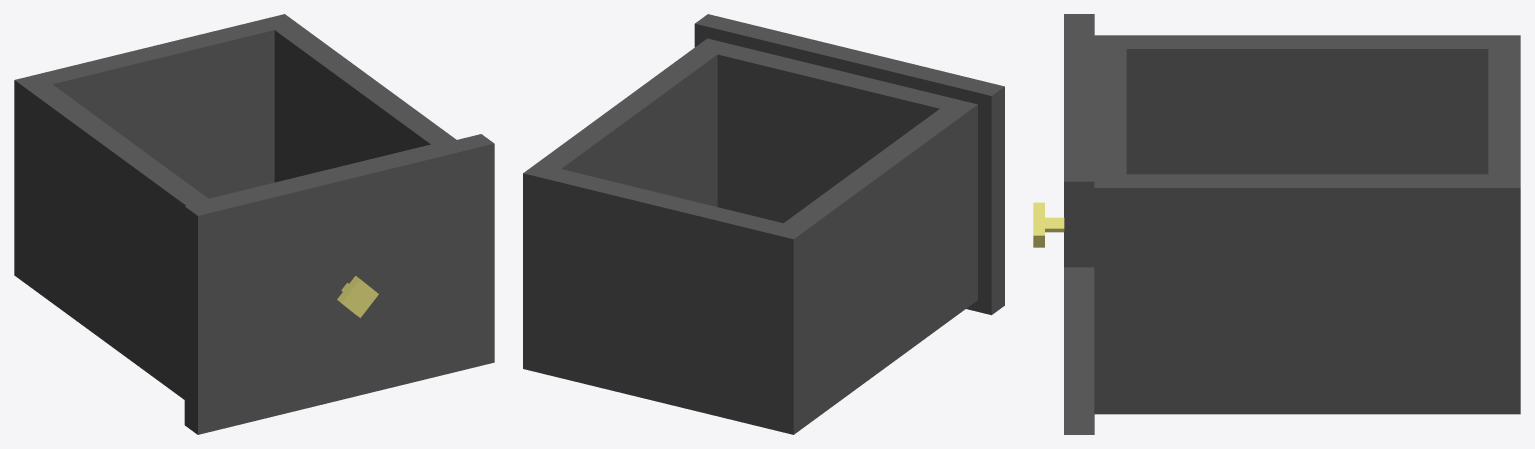
File: Itr_Wardrobe2_Drawer_Small_04.FBX
3 renders of one model, left to right at view 1: azimuth 30°, elevation 25°; view 2: azimuth 150°, elevation 25°; view 3: azimuth 270°, elevation 25°, orthographic. The views are drawn at different scales.
Parts seen in each view (by area): view 1: Itr_Wardrobe2_Drawer_Small_04; view 2: Itr_Wardrobe2_Drawer_Small_04; view 3: Itr_Wardrobe2_Drawer_Small_04.
Boxes of the visible parts, bbox=[...] form: Itr_Wardrobe2_Drawer_Small_04: bbox=[14, 14, 494, 434]; Itr_Wardrobe2_Drawer_Small_04: bbox=[523, 14, 1004, 434]; Itr_Wardrobe2_Drawer_Small_04: bbox=[1033, 14, 1520, 434].
Size of the model in its own units: 18.79 by 13.26 by 23.09.
